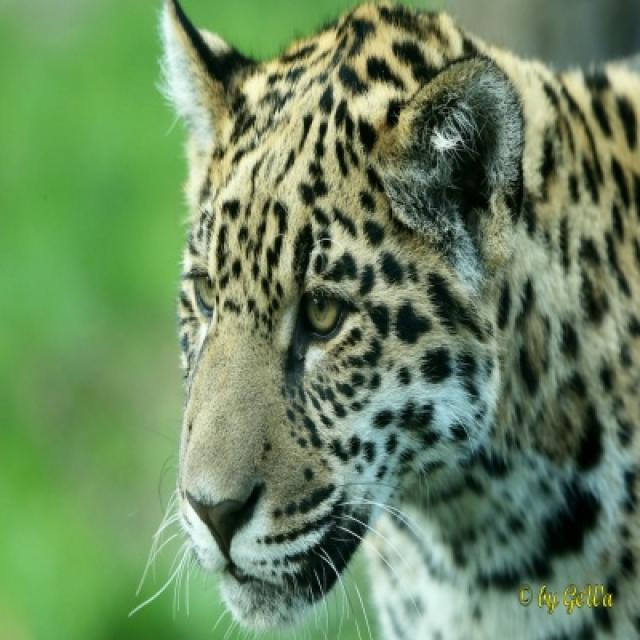Jaguar: (154, 0, 638, 638)
